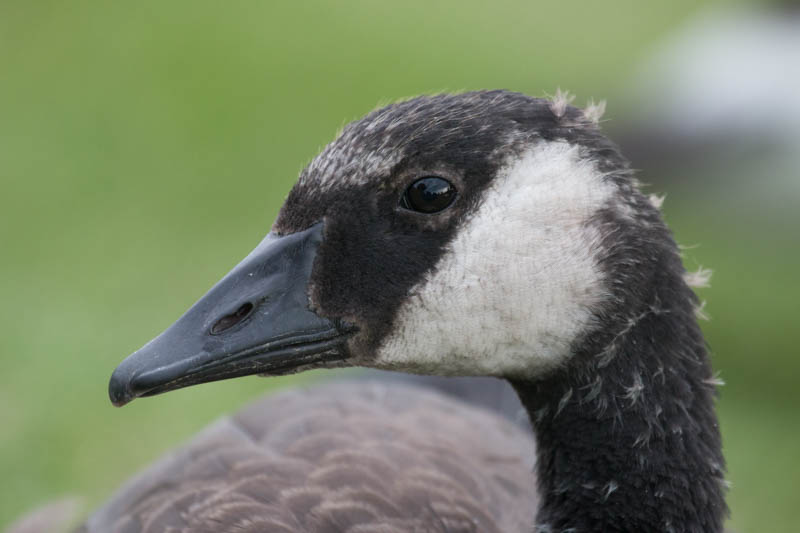goose-head: (108, 89, 716, 408)
